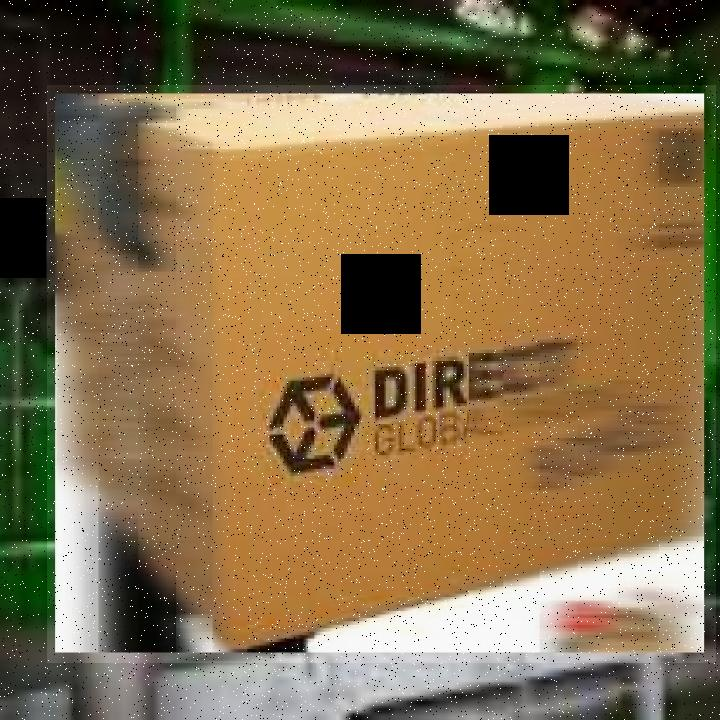box: (47, 85, 718, 663)
